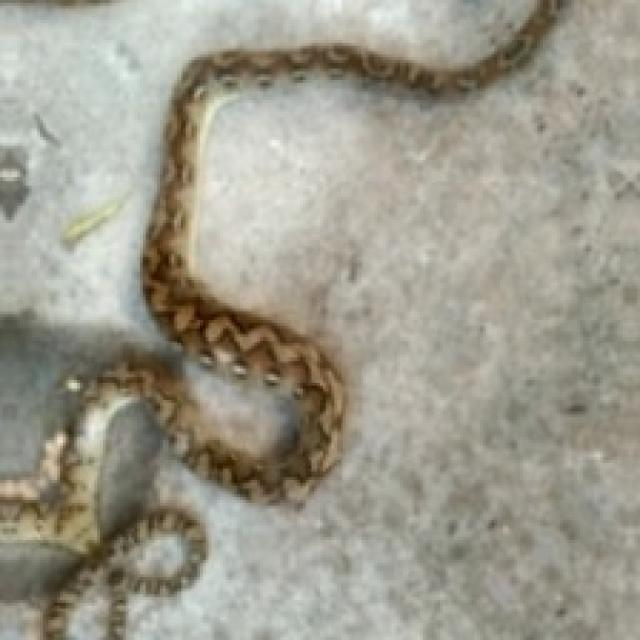reticulated python: (0, 0, 556, 640)
